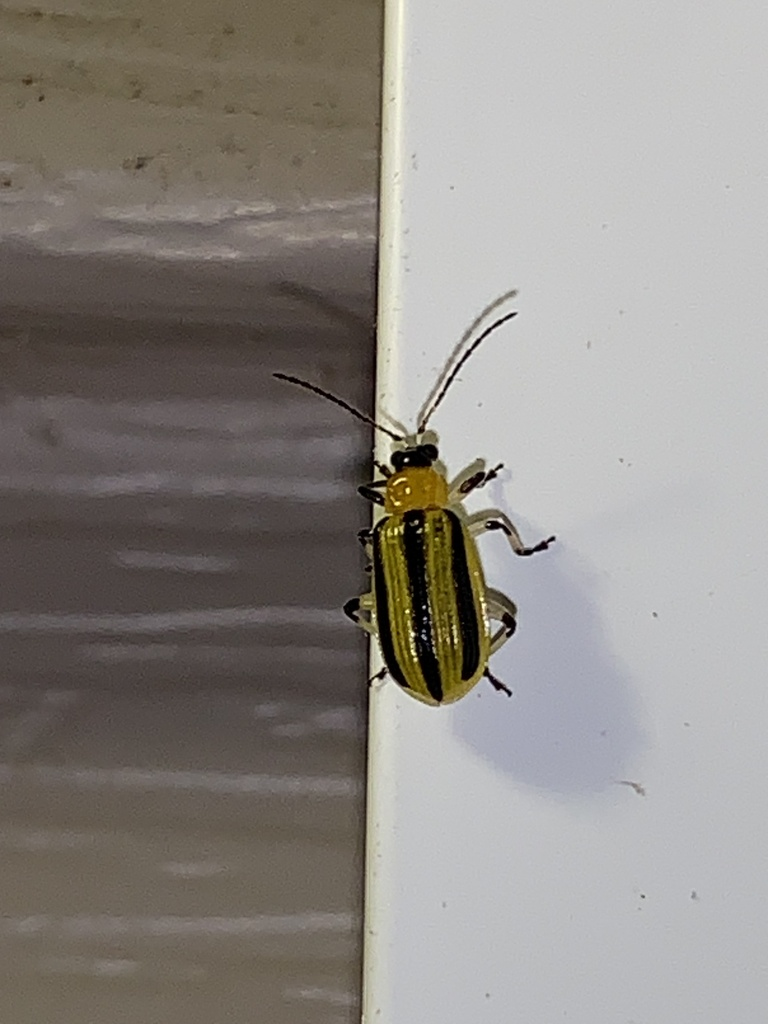potato_beetle: (195, 227, 641, 806)
